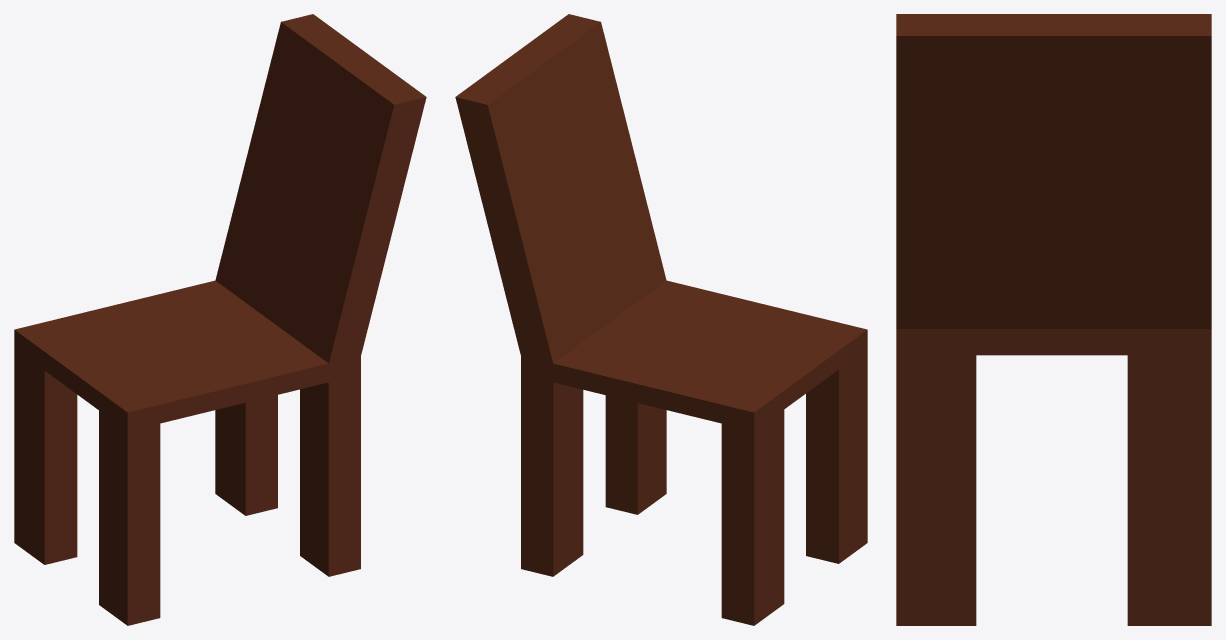
The model's file is Chair.fbx.
3 views of the same model, side by side, from view 1: azimuth 30°, elevation 25°; view 2: azimuth 150°, elevation 25°; view 3: azimuth 270°, elevation 25° (orthographic). The views are drawn at different scales.
Parts seen in each view (by area): view 1: Chair; view 2: Chair; view 3: Chair.
Part boxes in pixels (x1,y1,x2,y2): Chair: [14, 14, 426, 625]; Chair: [455, 14, 867, 625]; Chair: [896, 14, 1211, 625].
Size of the model in its own units: 43.44 by 63.34 by 28.55.
